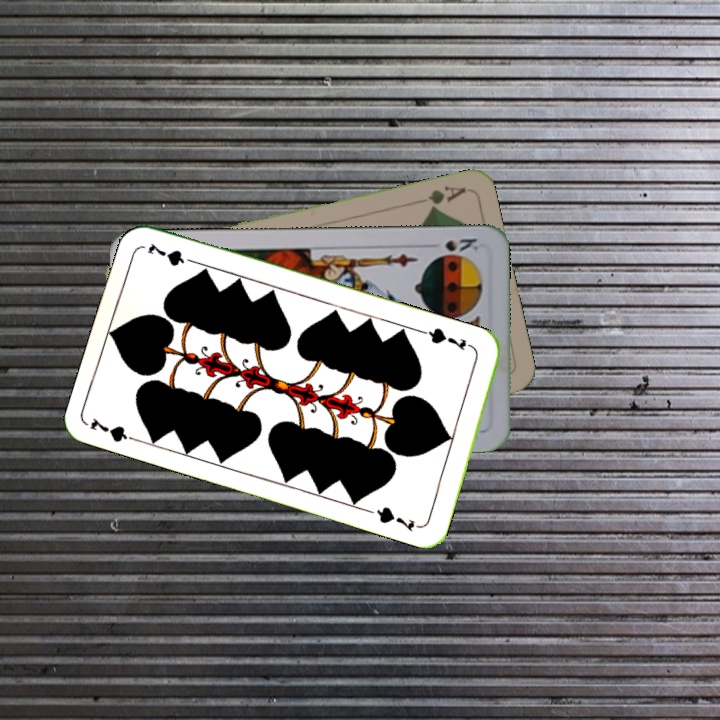G7: (86, 413, 145, 446), (420, 323, 478, 353)
GA: (411, 181, 468, 213)
SK: (424, 234, 481, 257)
